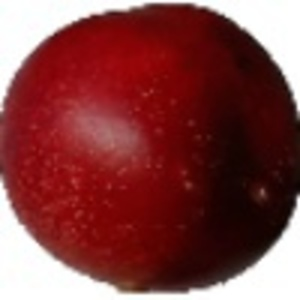nectarina: (1, 2, 300, 296)
